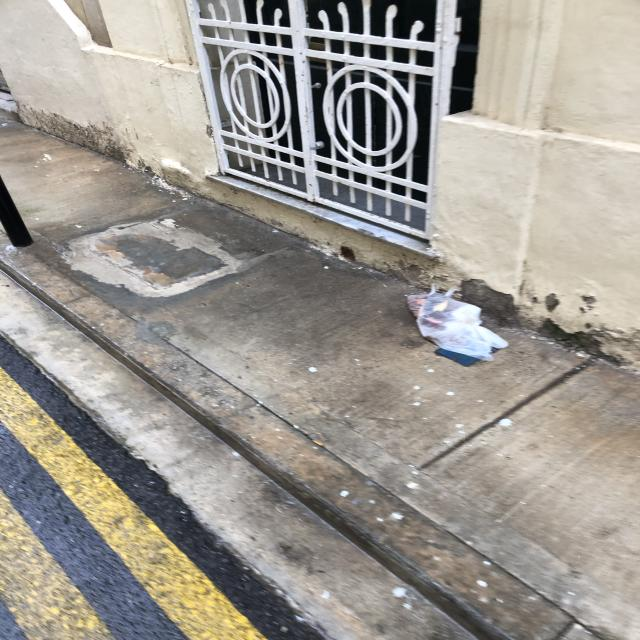Organic Waste -White Bag-: (401, 290, 510, 363)
